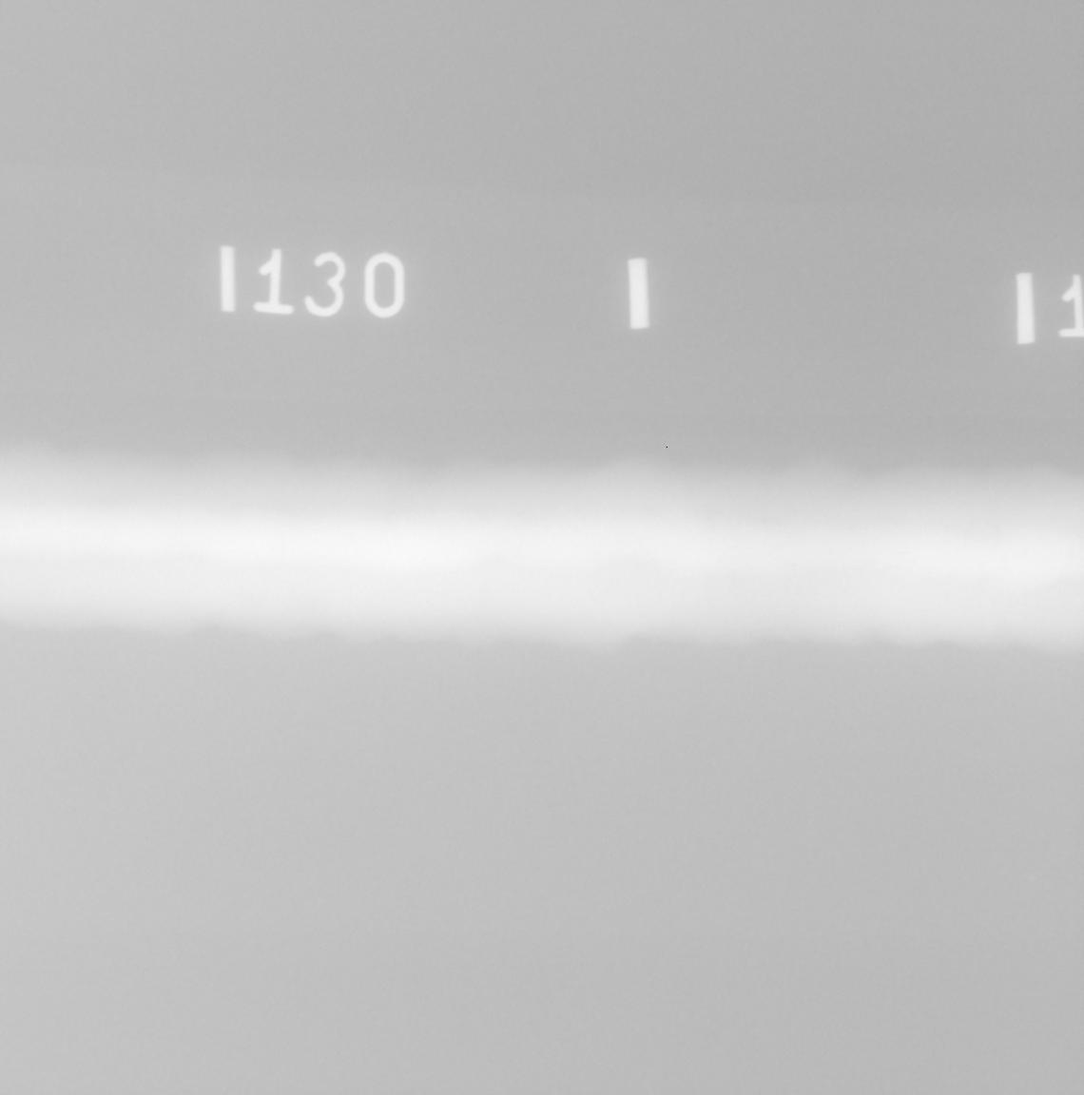Inclusion: (897, 552, 908, 554)
